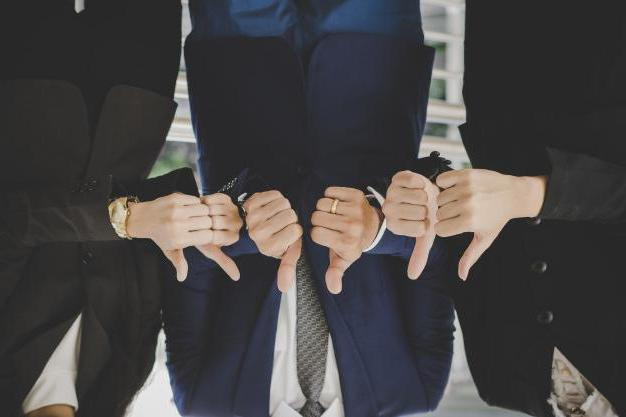thumbsdown: (434, 169, 492, 281), (310, 187, 368, 294), (245, 190, 303, 293), (382, 172, 433, 282), (168, 194, 212, 282), (207, 192, 244, 282)
